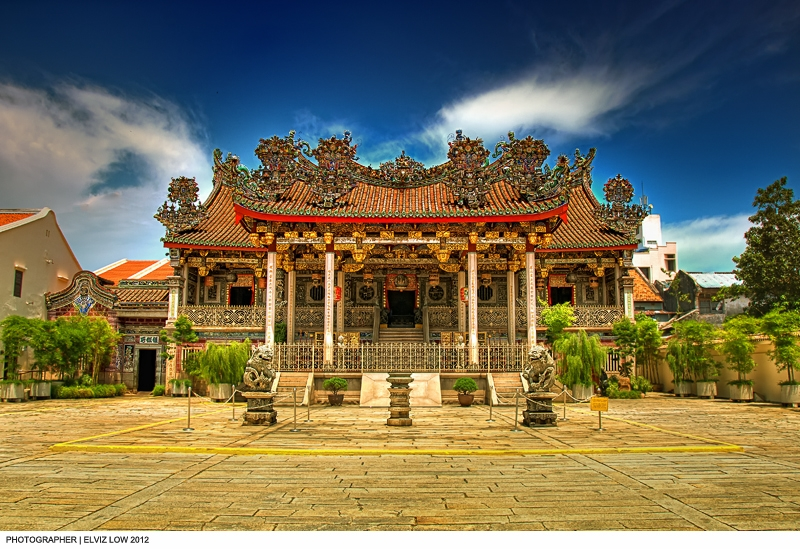Buddhist Temple: (154, 128, 671, 367)
